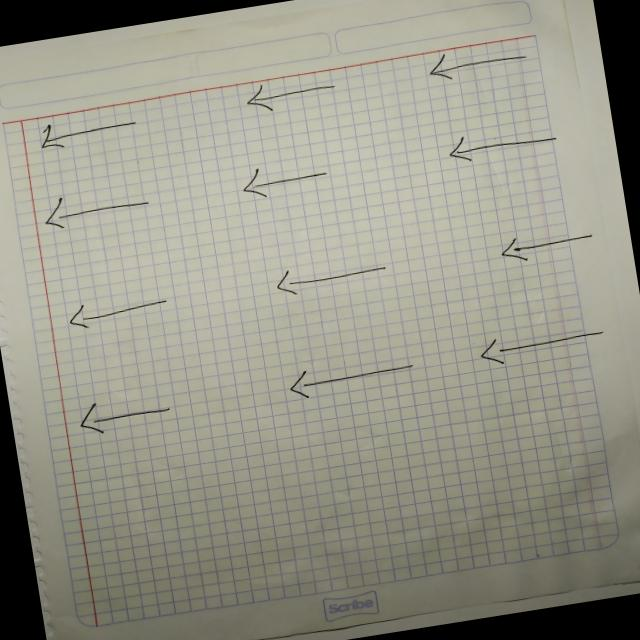arrow_line_left: (460, 313, 630, 377), (269, 347, 438, 408), (23, 176, 170, 242), (428, 116, 579, 178), (254, 251, 406, 309), (224, 65, 372, 124), (221, 150, 359, 210), (65, 386, 197, 446), (407, 34, 543, 92), (21, 105, 152, 160), (56, 286, 186, 340), (478, 220, 604, 270)
